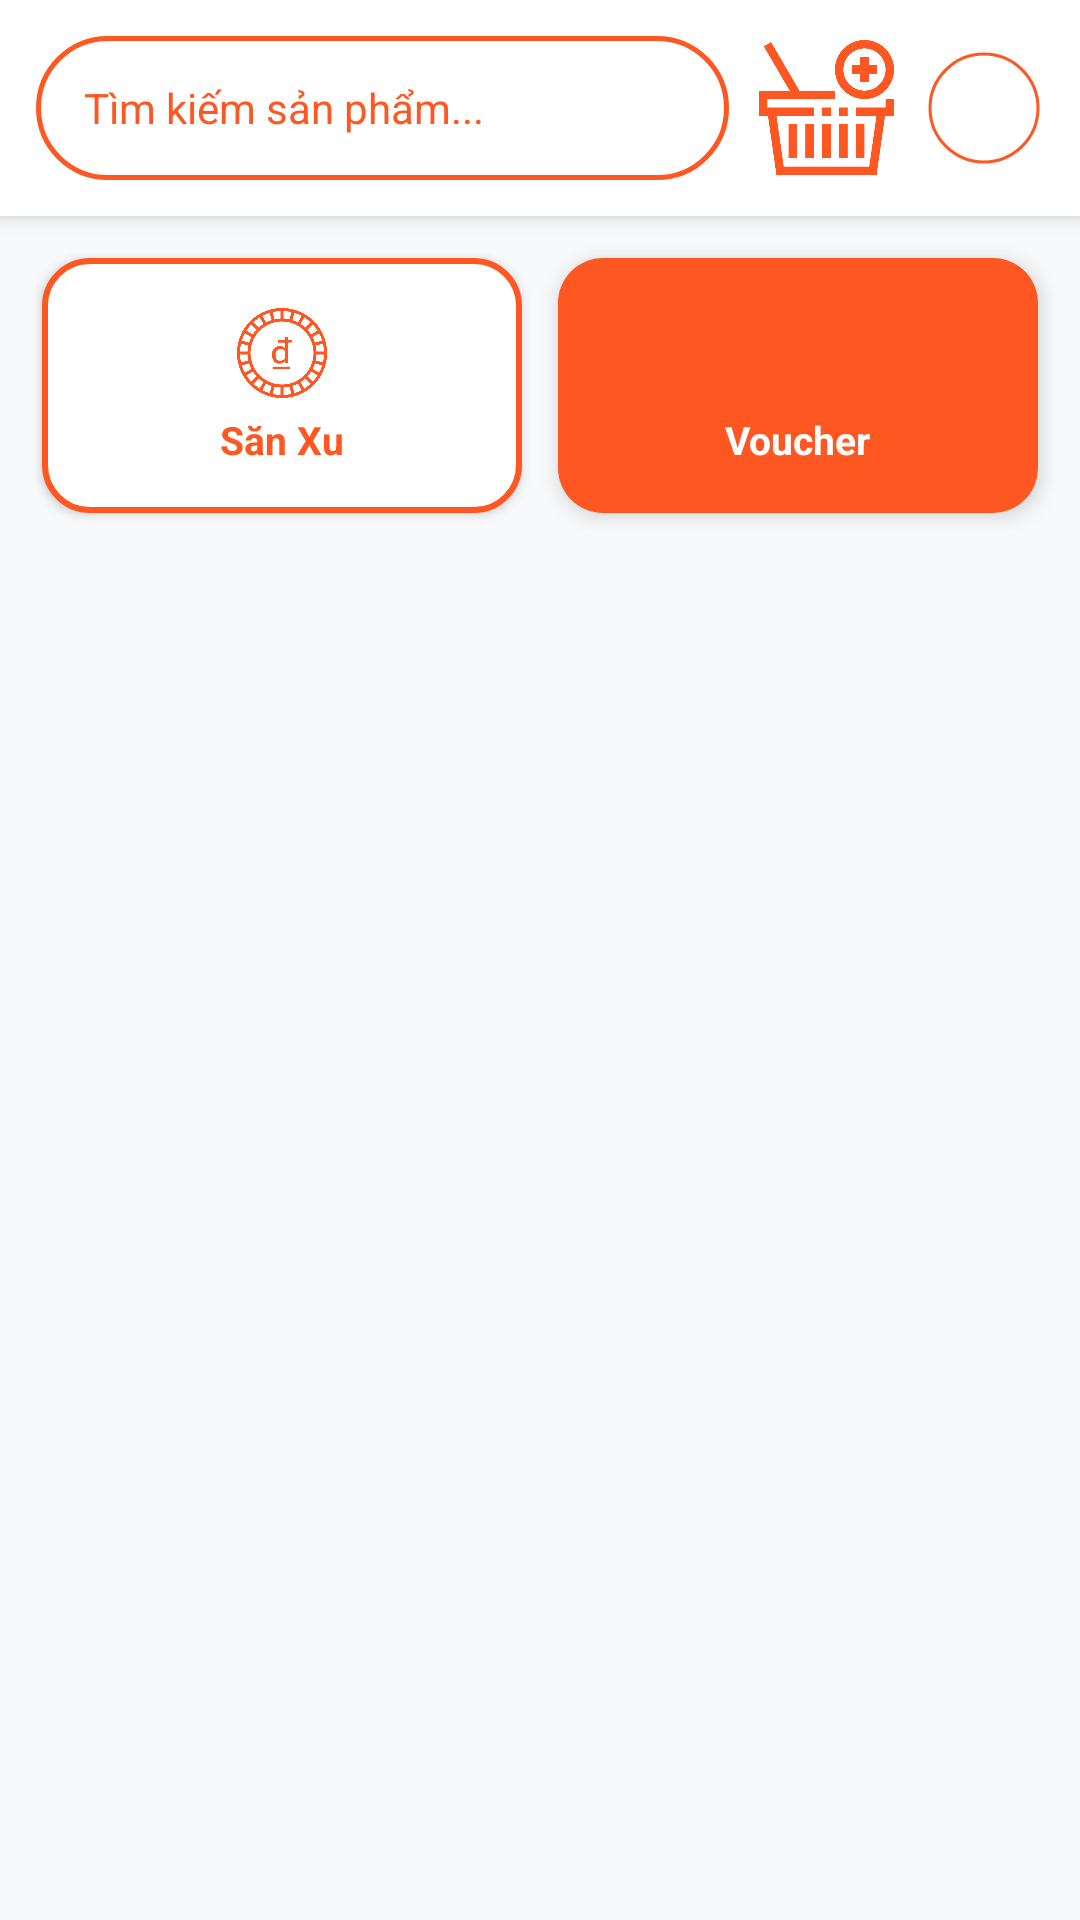

Named icons in this screenshot (1080x1920) and their centers, (x,y):
giohang: (826,107)
